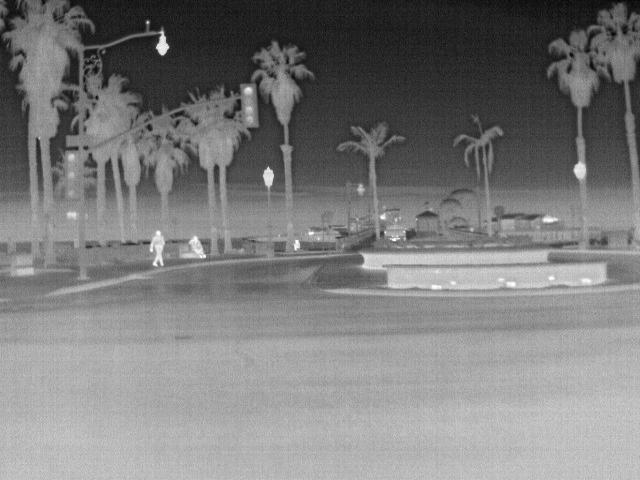car: (383, 224, 407, 242)
person: (147, 227, 167, 269), (189, 234, 210, 260)
